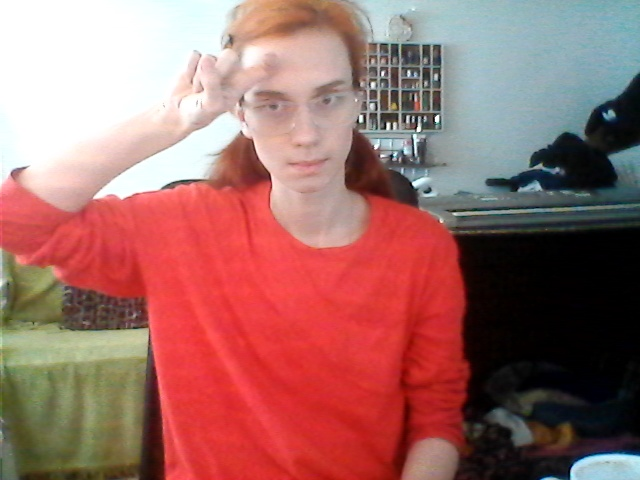chlapec: (173, 47, 292, 121)
